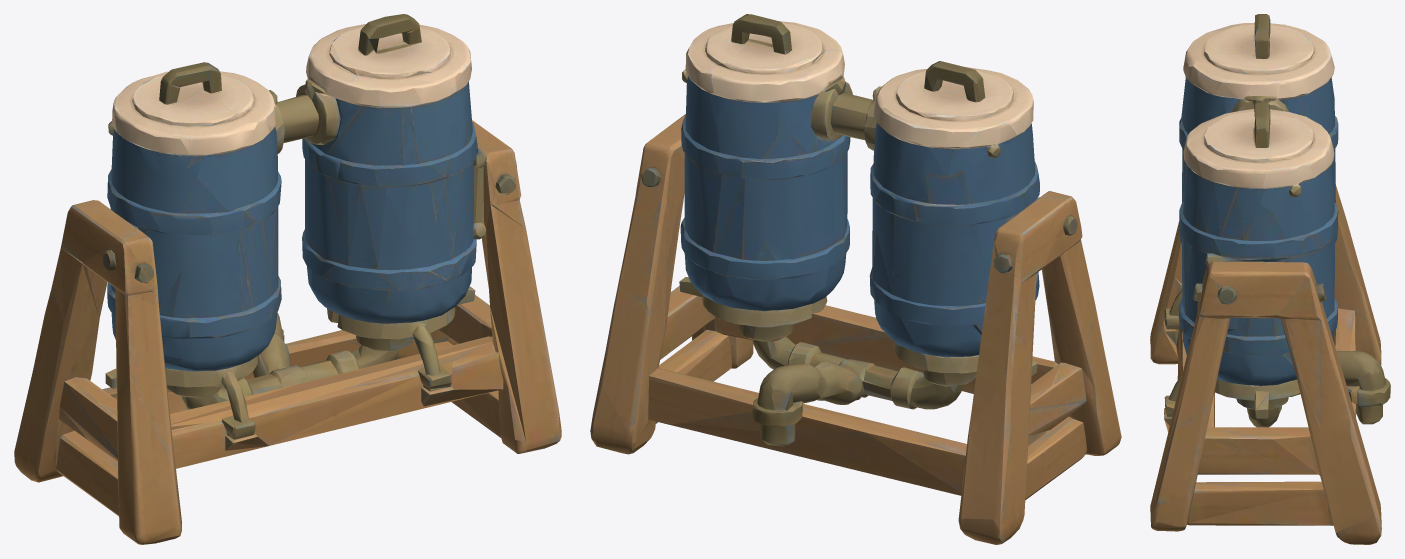
Rendered from barrelRack.glb.
The picture shows the model from 3 angles, left to right: view 1: azimuth 30°, elevation 25°; view 2: azimuth 150°, elevation 25°; view 3: azimuth 270°, elevation 25°; orthographic projection. The views are drawn at different scales.
Visible parts, largest first — view 1: Mesh_0; view 2: Mesh_0; view 3: Mesh_0.
Boxes of the visible parts, x1,y1,x2,y2 form: Mesh_0: [14, 14, 561, 544]; Mesh_0: [590, 14, 1121, 544]; Mesh_0: [1150, 14, 1390, 544].
Size of the model in its own units: 1.5 by 1.43 by 0.8012.
1 material, 1 textured.
